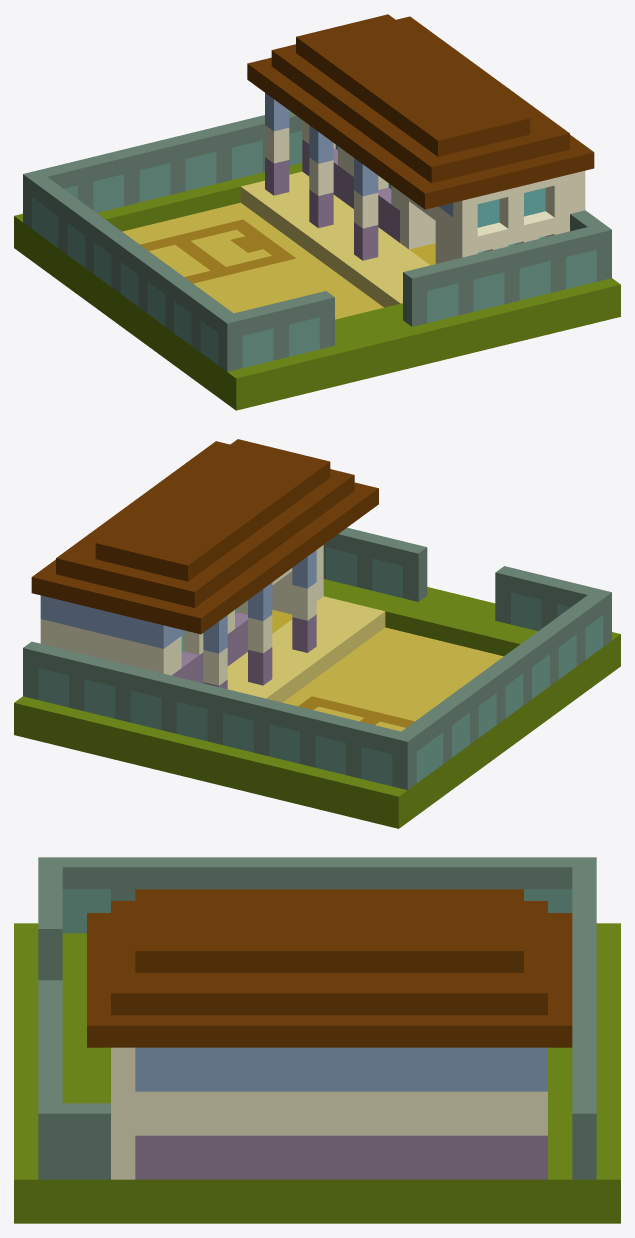
Rendered from build12.obj.
The picture shows the model from 3 angles, top to bottom: view 1: azimuth 30°, elevation 25°; view 2: azimuth 150°, elevation 25°; view 3: azimuth 270°, elevation 25°; orthographic projection. The views are drawn at different scales.
Bounding box in the file's own units: 25 × 11 × 25.
